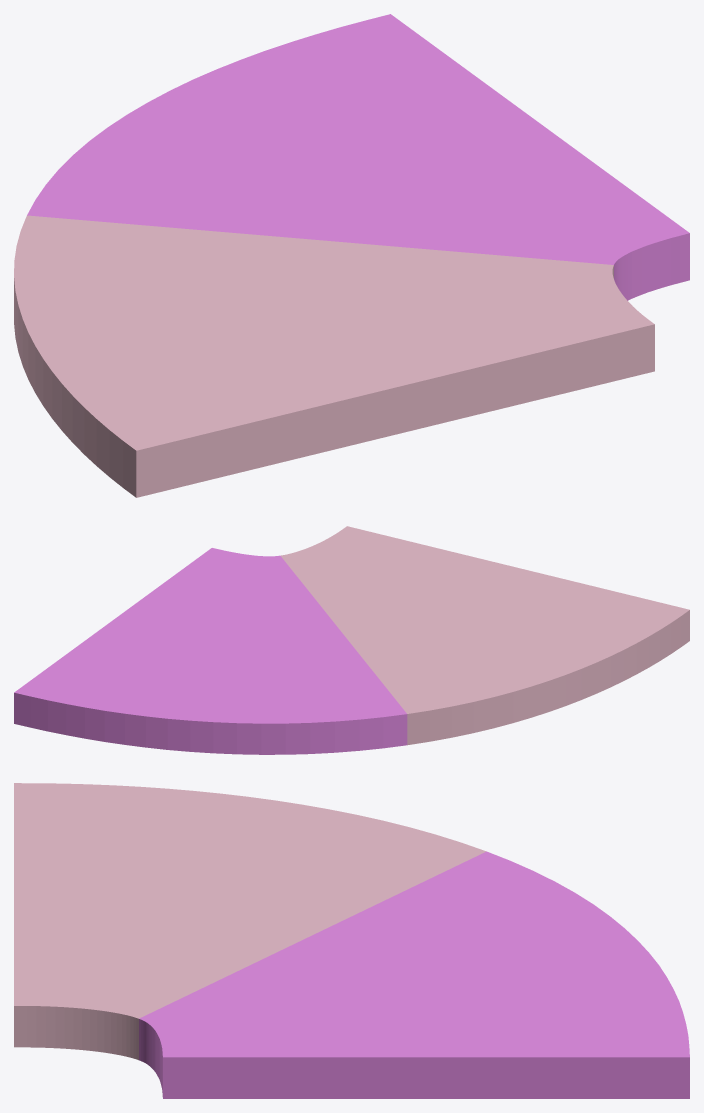
File: Platform_Edge.fbx
3 views of the same model, one above another, from view 1: azimuth 30°, elevation 25°; view 2: azimuth 150°, elevation 25°; view 3: azimuth 270°, elevation 25° (orthographic). The views are drawn at different scales.
Visible parts, largest first — view 1: Platform.001; view 2: Platform.001; view 3: Platform.001.
Part boxes in pixels (box(x1,y1,x2,y2)): Platform.001: box(14, 14, 689, 497); Platform.001: box(14, 526, 689, 754); Platform.001: box(14, 783, 689, 1098).
Size of the model in its own units: 1416 by 100 by 1475.
